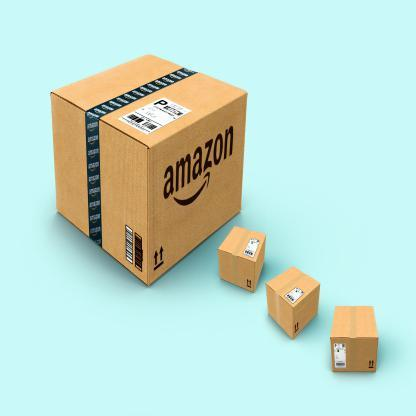package: (50, 49, 248, 292), (264, 267, 322, 337), (328, 303, 382, 375), (215, 223, 268, 291)
